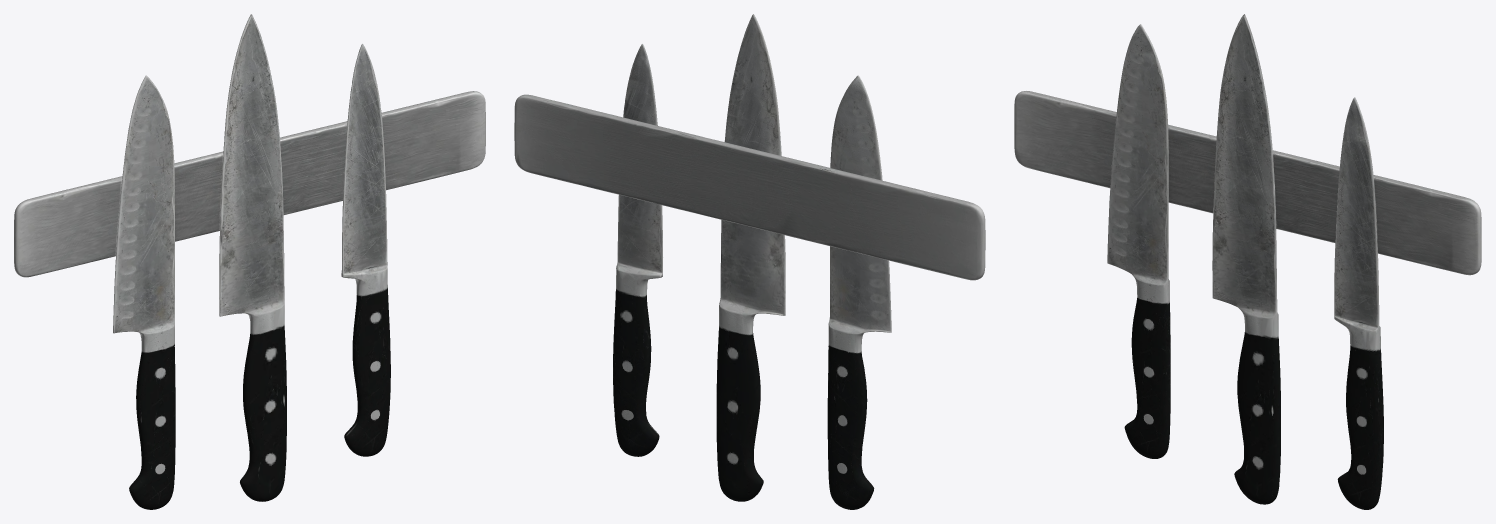
File: desktop.glb
The picture shows the model from 3 angles, left to right: view 1: azimuth 30°, elevation 25°; view 2: azimuth 150°, elevation 25°; view 3: azimuth 330°, elevation 25°; orthographic projection.
Parts seen in each view (by area): view 1: d-knifestrip; view 2: d-knifestrip; view 3: d-knifestrip.
Boxes of the visible parts, box(x1,y1,x2,y2) form: d-knifestrip: box(14, 14, 485, 509); d-knifestrip: box(514, 14, 985, 509); d-knifestrip: box(1014, 14, 1481, 509).
Bounding box in the file's own units: 0.4492 × 0.4475 × 0.012.
1 material, 1 textured.
